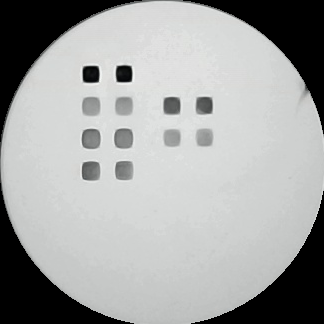检查点: (113, 62, 135, 86), (80, 159, 102, 183), (112, 159, 136, 181), (81, 127, 102, 150), (161, 128, 185, 148), (81, 95, 101, 118), (114, 96, 135, 117), (81, 63, 101, 85), (194, 128, 215, 148), (114, 128, 134, 149), (162, 95, 181, 117), (195, 96, 214, 116)
